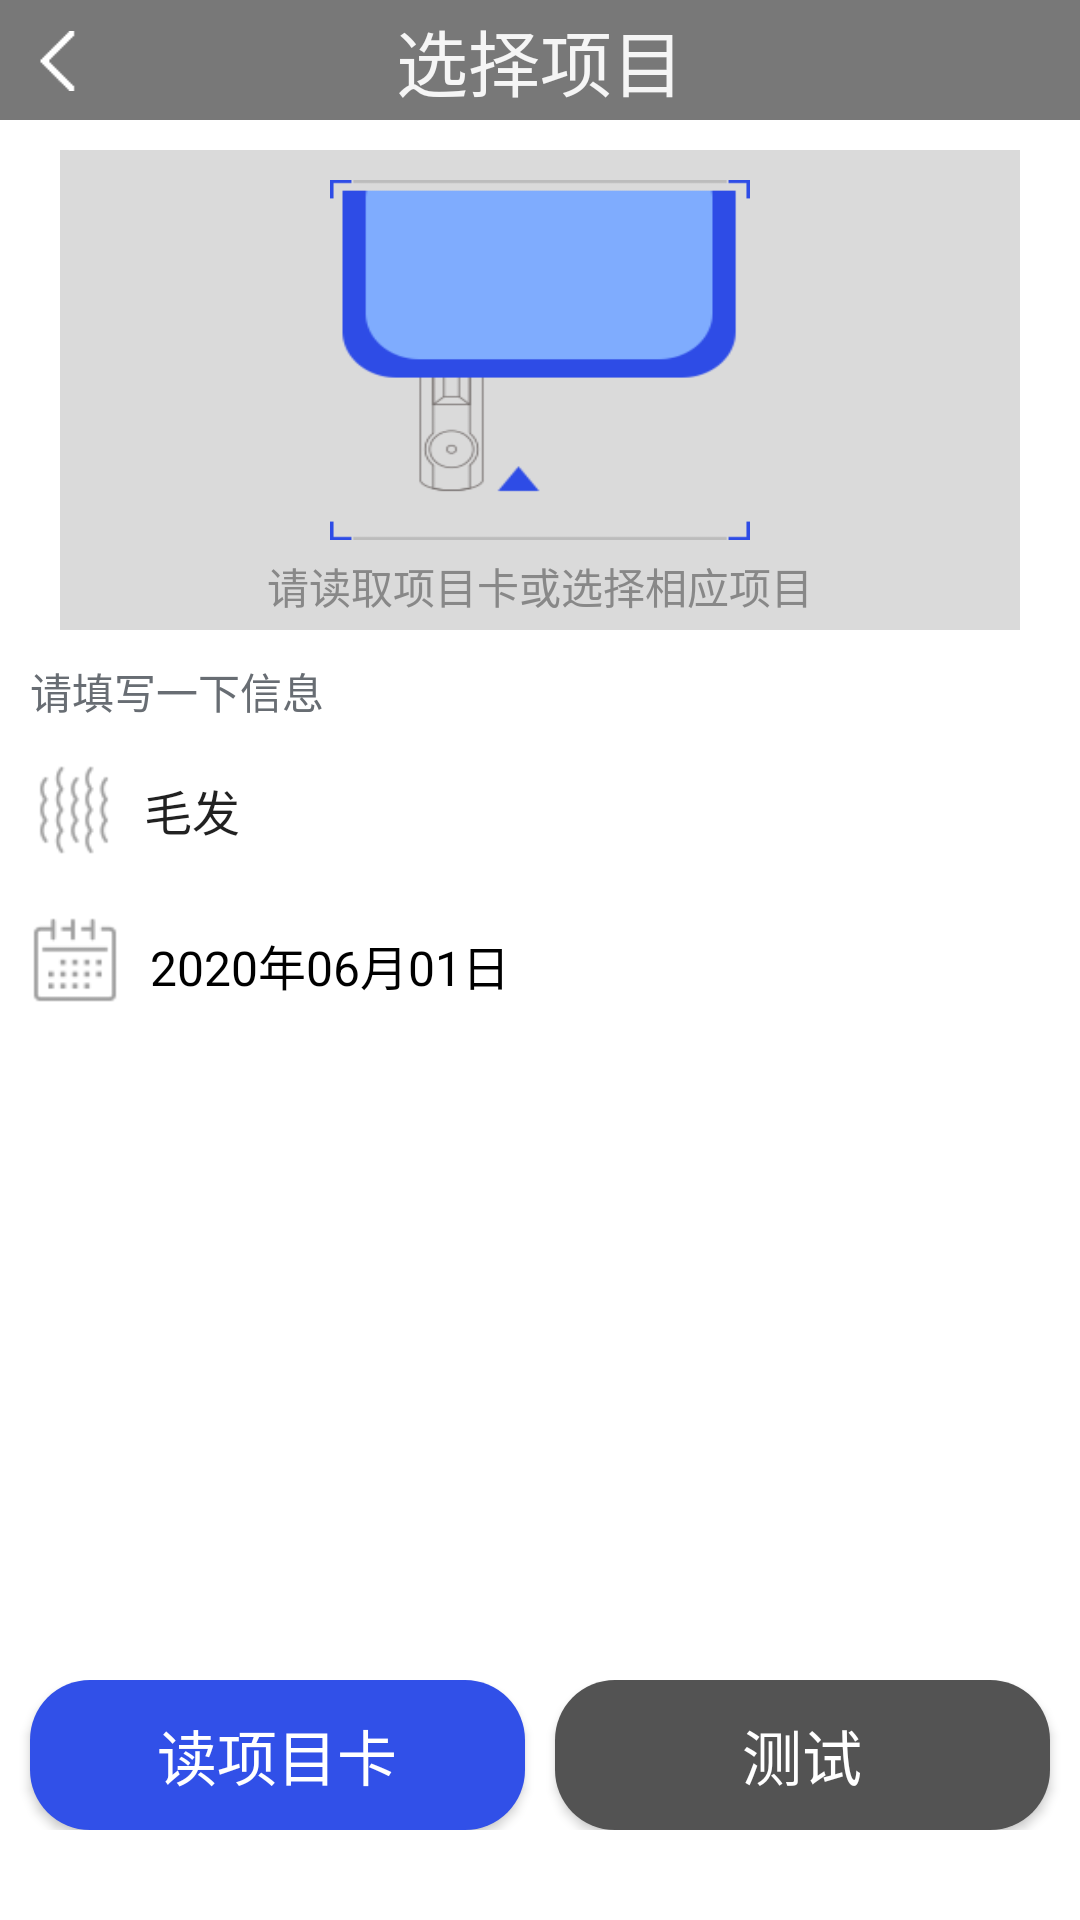

Locate icon controls on the screen. Image size 1080w x 1920h, boxes as rect(x1, y1, x2, y2).
calendar: rect(34, 919, 116, 1001)
